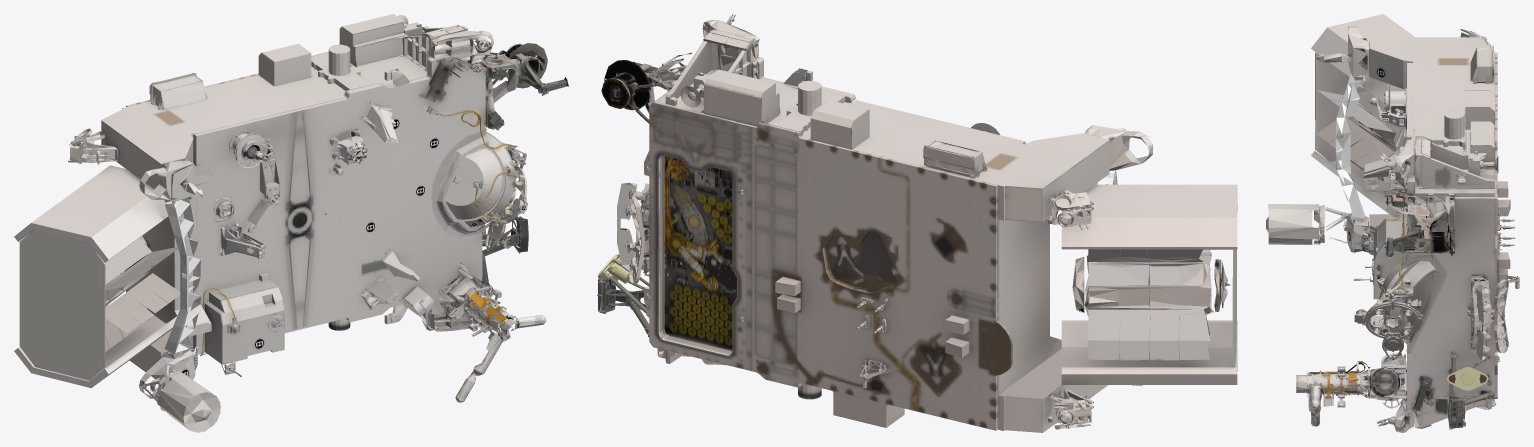
File: CHASSIS.gltf
3 views of the same model, side by side, from view 1: azimuth 30°, elevation 25°; view 2: azimuth 150°, elevation 25°; view 3: azimuth 270°, elevation 25° (orthographic). The views are drawn at different scales.
Visible parts, largest first — view 1: Mesh_0; view 2: Mesh_0; view 3: Mesh_0.
Boxes of the visible parts, <box> form: Mesh_0: <box>14,14,568,432</box>; Mesh_0: <box>597,14,1237,432</box>; Mesh_0: <box>1266,14,1519,432</box>.
Bounding box in the file's own units: 3.02 × 1.68 × 1.29.
Materials: 1 (1 with a texture image).
